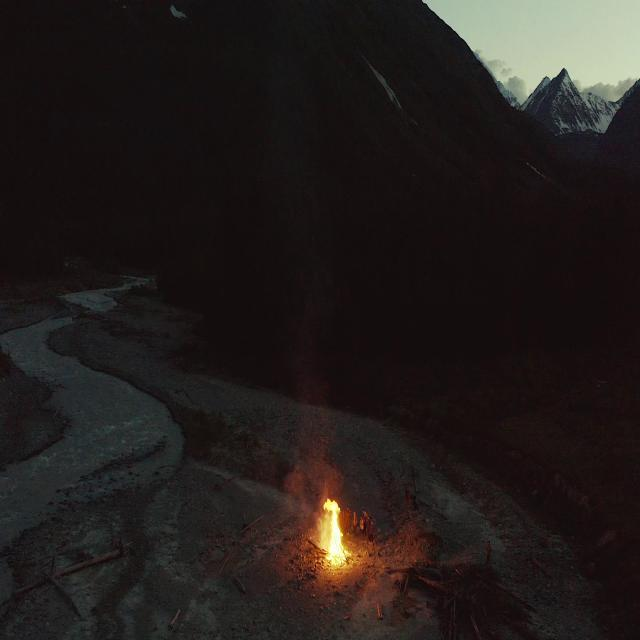Fire: (312, 480, 348, 569)
